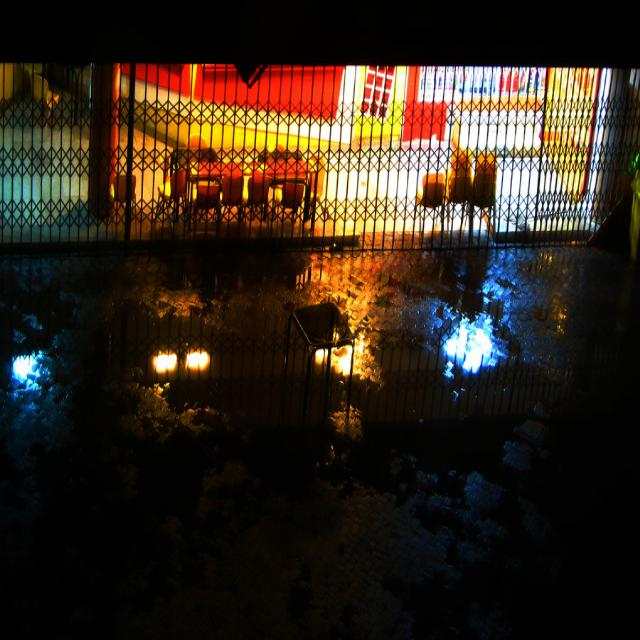Table: (277, 293, 365, 449), (247, 141, 326, 212), (171, 155, 244, 211)
chair: (414, 162, 450, 238), (450, 171, 476, 235), (195, 162, 223, 220), (217, 178, 247, 231), (277, 172, 302, 227)
